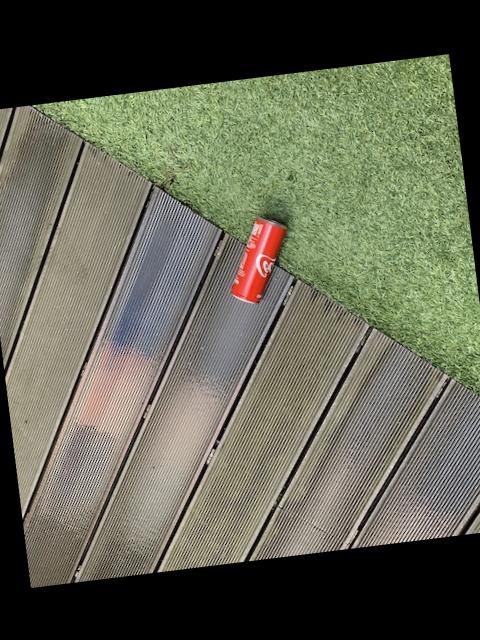metal: (232, 218, 286, 302)
